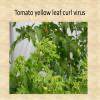Tomato leaf yellow virus: (68, 72, 74, 82), (61, 75, 66, 85), (78, 59, 85, 66), (11, 63, 19, 69), (32, 68, 38, 76), (55, 82, 60, 91), (37, 76, 43, 83), (76, 74, 83, 80), (47, 78, 53, 84), (45, 63, 49, 72), (19, 65, 24, 72), (54, 54, 61, 59), (49, 70, 55, 75), (37, 46, 40, 54), (41, 46, 45, 52), (50, 50, 54, 55), (53, 45, 56, 50), (46, 48, 49, 53), (44, 81, 46, 87)
